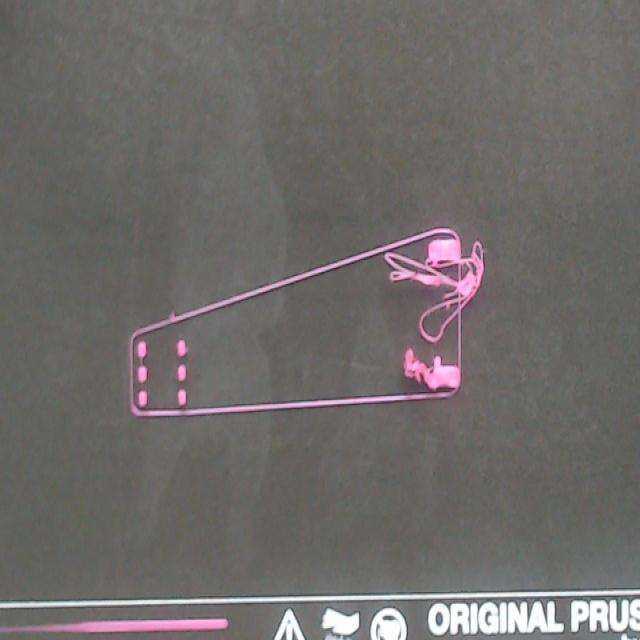mistake: (385, 248, 483, 343), (405, 349, 460, 389)
